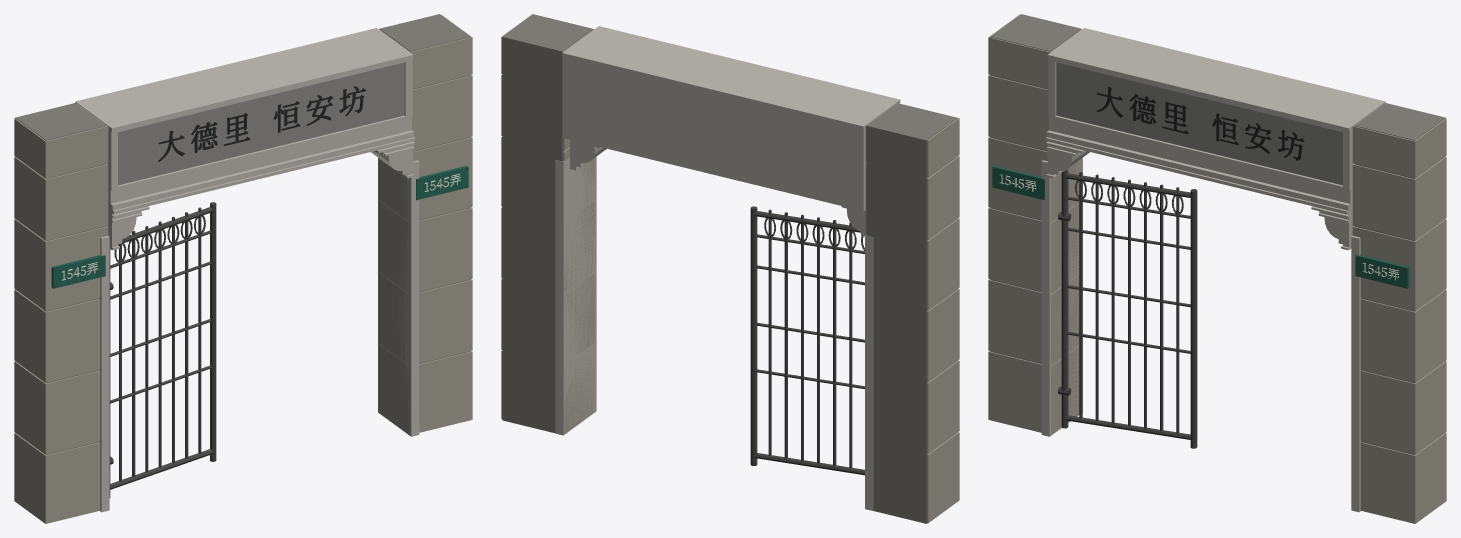
File: hongkou-dade-hengan-1545-shared-portal-lod.glb
3 views of the same model, side by side, from view 1: azimuth 30°, elevation 25°; view 2: azimuth 150°, elevation 25°; view 3: azimuth 330°, elevation 25° (orthographic).
Parts seen in each view (by area): view 1: 大德里与恒安坊四川北路1545弄题名过街门; view 2: 大德里与恒安坊四川北路1545弄题名过街门; view 3: 大德里与恒安坊四川北路1545弄题名过街门.
Part boxes in pixels (<box>): 大德里与恒安坊四川北路1545弄题名过街门: <box>14,14,472,523</box>; 大德里与恒安坊四川北路1545弄题名过街门: <box>501,14,959,523</box>; 大德里与恒安坊四川北路1545弄题名过街门: <box>988,14,1446,523</box>.
Bounding box in the file's own units: 3.74 × 3.21 × 0.587.
